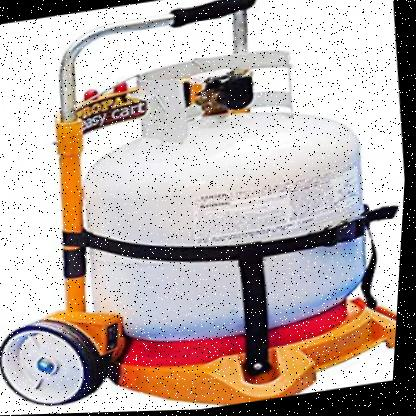gas-tank: (41, 18, 411, 373)
